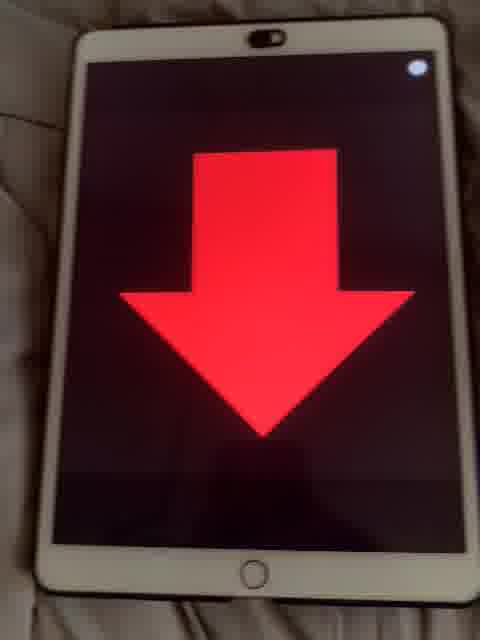down: (113, 143, 420, 445)
